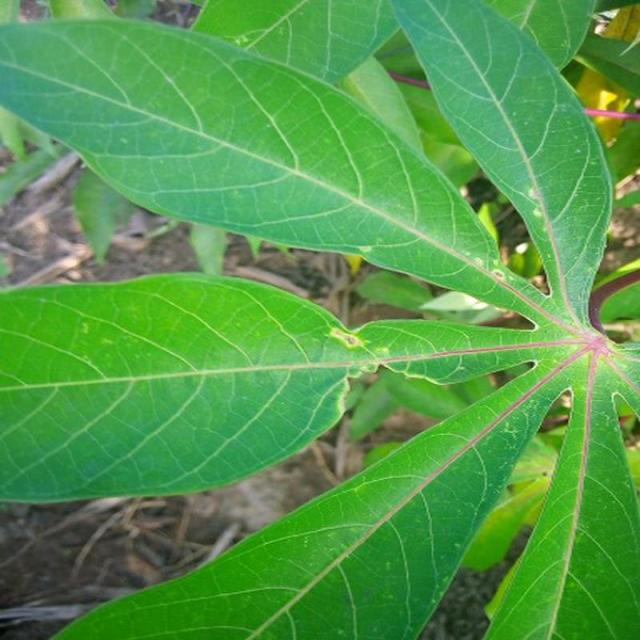cassava leaf: (0, 1, 638, 638), (0, 13, 543, 314), (47, 346, 580, 639), (0, 269, 355, 504), (388, 0, 614, 326)
